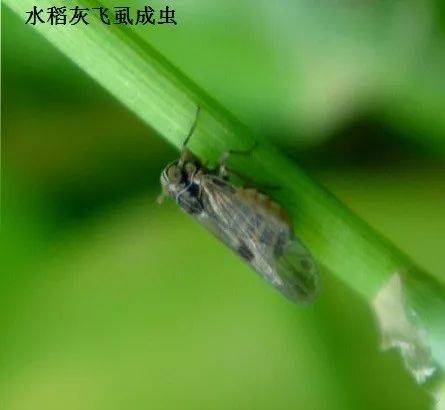Delphacidae: (156, 104, 322, 306)
